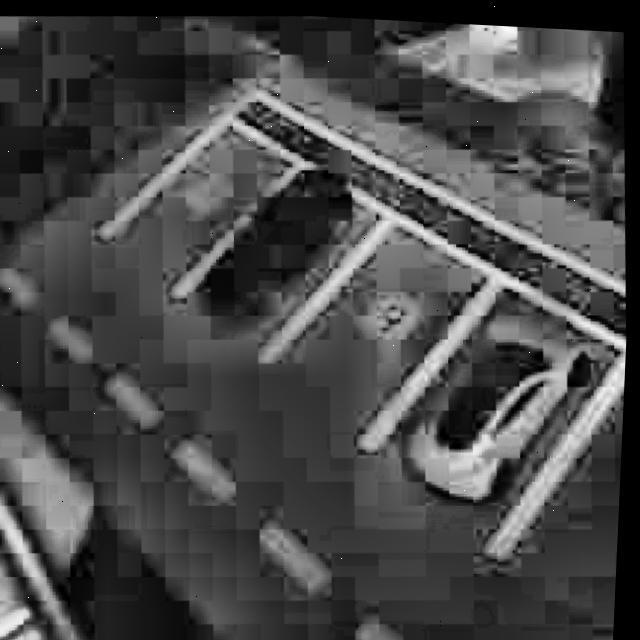car: (389, 293, 605, 518), (188, 149, 370, 348)
